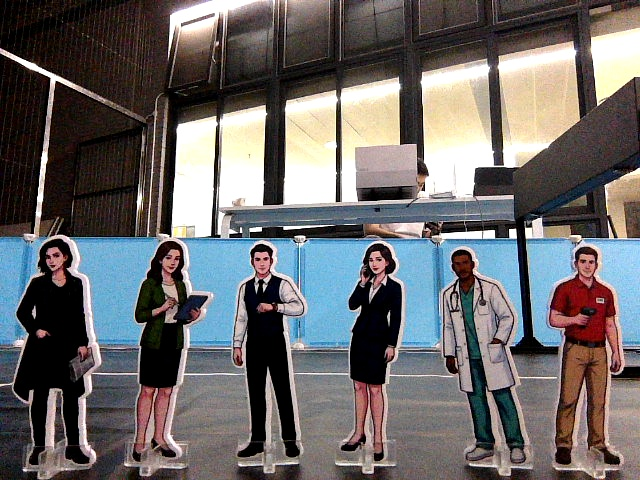community_person: (7, 229, 110, 478), (433, 238, 532, 476), (125, 232, 215, 476), (225, 233, 313, 476), (545, 234, 630, 475), (334, 232, 416, 474)
